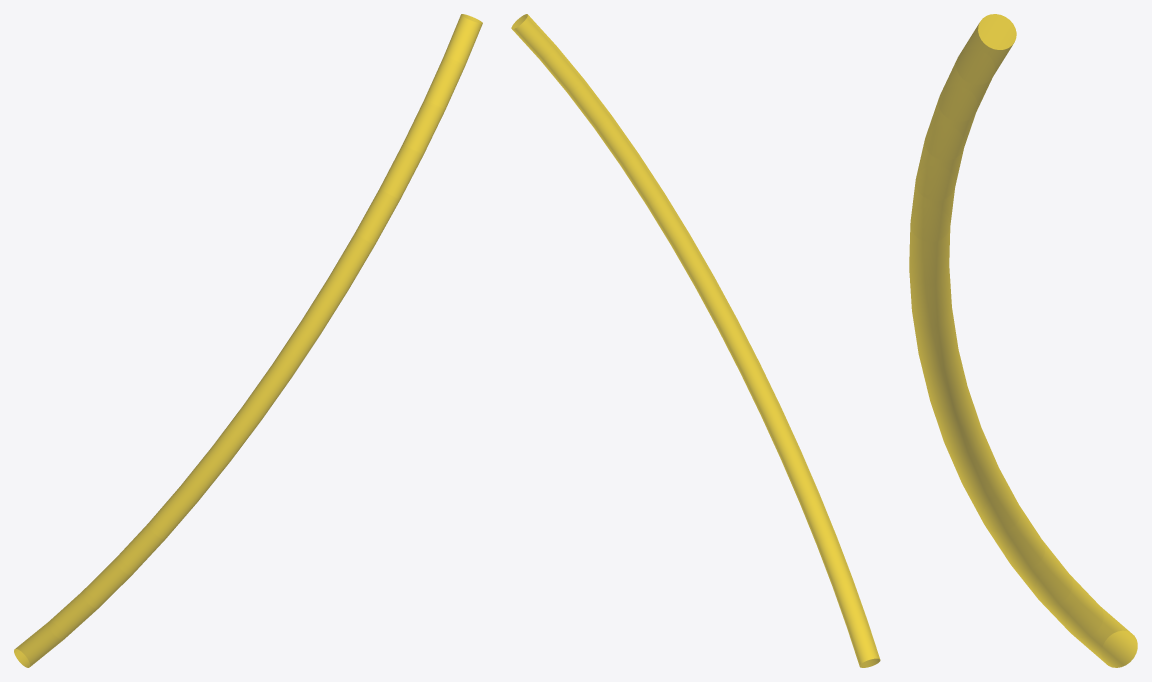
Rendered from Event_40932208_track_40.fbx.
3 views of the same model, side by side, from view 1: azimuth 30°, elevation 25°; view 2: azimuth 150°, elevation 25°; view 3: azimuth 270°, elevation 25° (orthographic). The views are drawn at different scales.
Parts seen in each view (by area): view 1: Model; view 2: Model; view 3: Model.
Boxes of the visible parts, x1,y1,x2,y2 form: Model: (14,14,482,667); Model: (511,14,880,667); Model: (909,14,1137,667).
Bounding box in the file's own units: 0.8406 × 1.08 × 0.2274.
